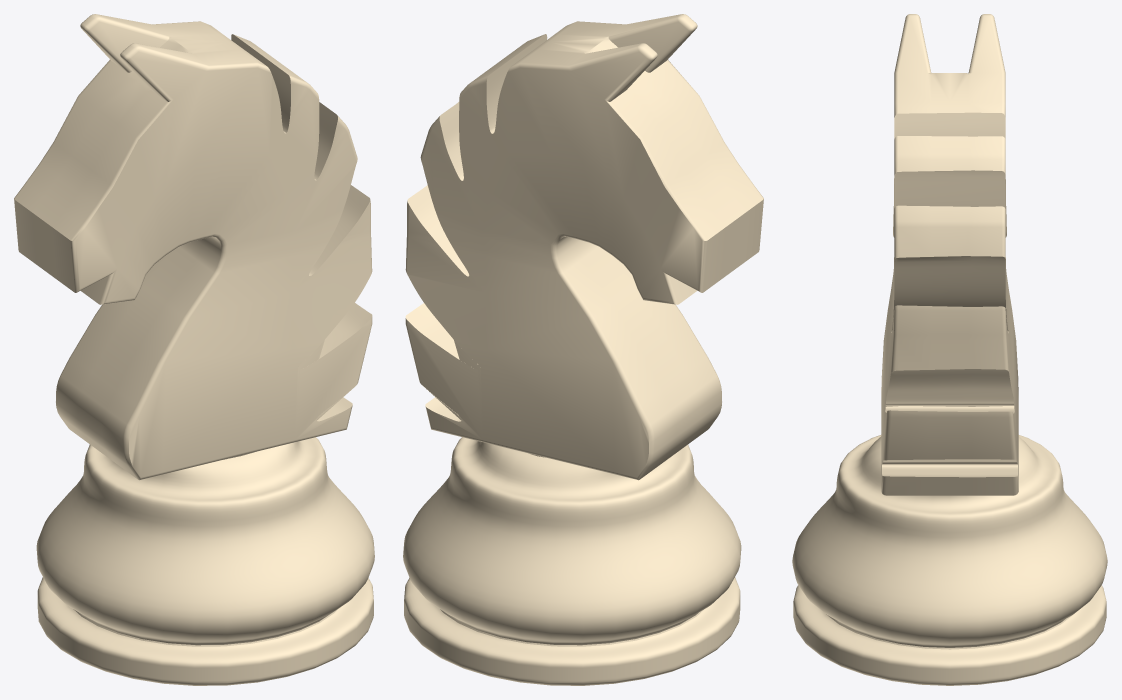
The model's file is Knight.fbx.
3 views of the same model, side by side, from view 1: azimuth 30°, elevation 25°; view 2: azimuth 150°, elevation 25°; view 3: azimuth 270°, elevation 25° (orthographic). The views are drawn at different scales.
Visible parts, largest first — view 1: Knight; view 2: Knight; view 3: Knight.
Part boxes in pixels (box(x1,y1,x2,y2)): Knight: box(14, 14, 374, 685); Knight: box(403, 14, 763, 685); Knight: box(792, 14, 1107, 685).
Bounding box in the file's own units: 57.9 × 110 × 54.83.
